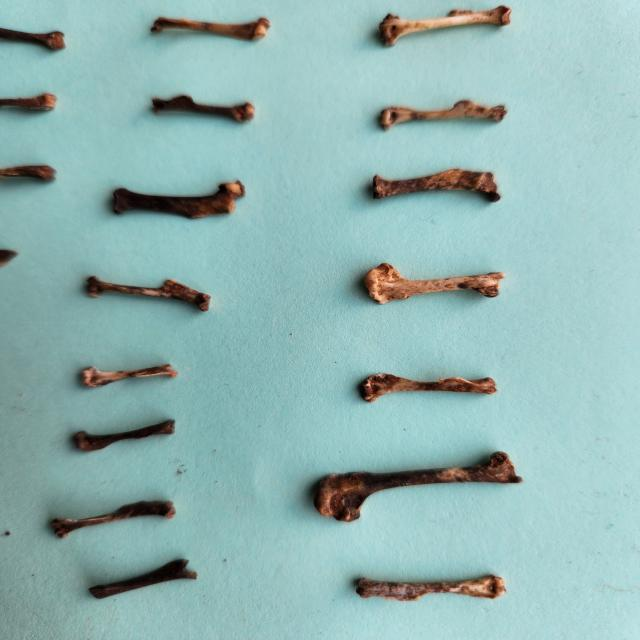fossil: (305, 441, 531, 528), (100, 173, 260, 235), (354, 254, 514, 313), (339, 564, 521, 610), (364, 1, 525, 53), (73, 263, 223, 317), (363, 161, 512, 211), (40, 493, 185, 544), (76, 552, 209, 607), (369, 90, 521, 137), (349, 364, 509, 408), (140, 7, 286, 52), (139, 86, 271, 132), (68, 351, 190, 397), (65, 415, 189, 458), (0, 22, 70, 55), (0, 90, 69, 118), (0, 162, 61, 186), (0, 246, 29, 270)
